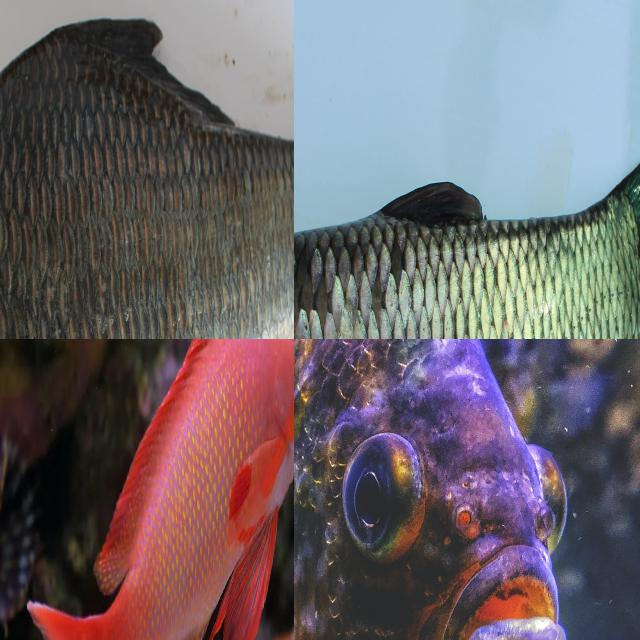fish: (0, 0, 294, 339), (0, 339, 294, 640), (294, 92, 640, 339), (294, 341, 527, 640)
